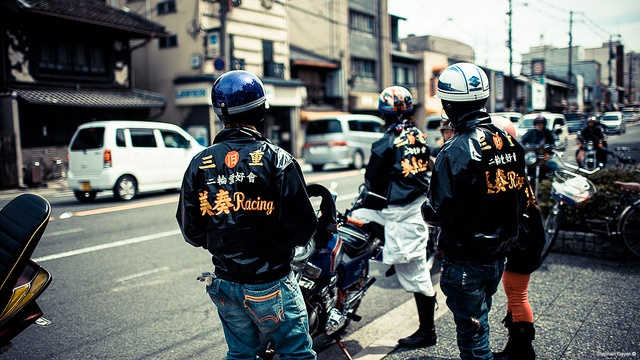non-vehicle: (291, 180, 387, 360), (0, 190, 53, 355), (520, 143, 553, 208), (576, 130, 602, 170)
